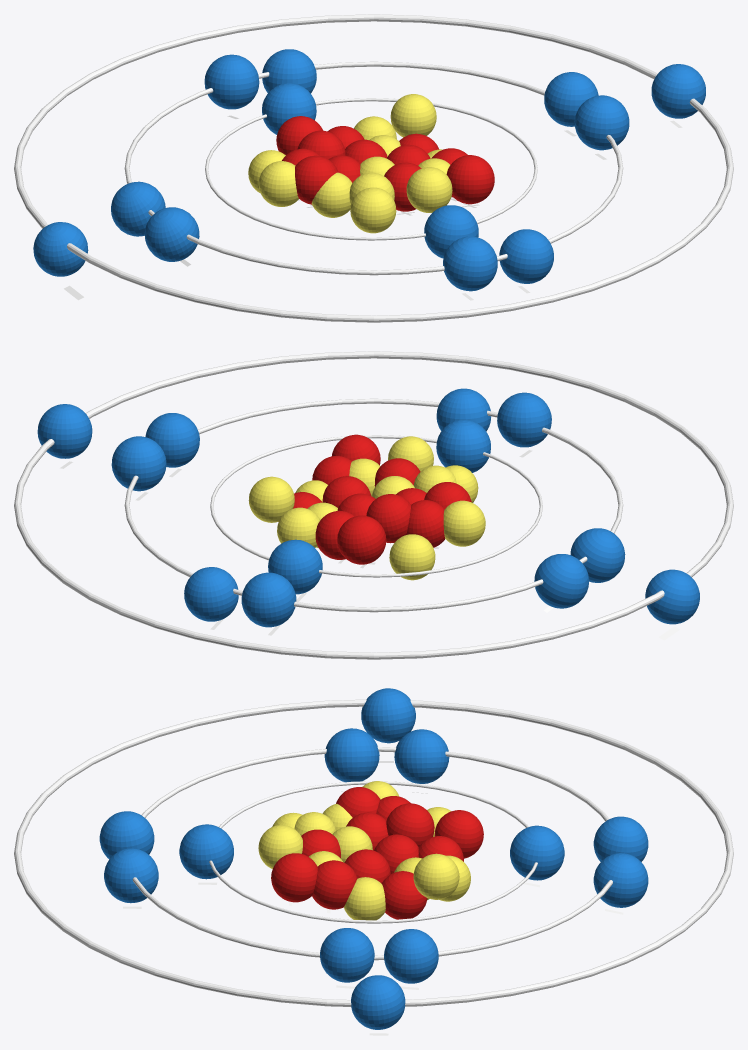
The picture shows the model from 3 angles, top to bottom: view 1: azimuth 30°, elevation 25°; view 2: azimuth 150°, elevation 25°; view 3: azimuth 270°, elevation 25°; orthographic projection.
Parts seen in each view (by area): view 1: Torus.003, Torus.002, Torus.001, -.008, -.004, -.005, -.003, -.002, -.010, -.011, -.006, -.007 (+19 smaller); view 2: Torus.003, Torus.002, Torus.001, -.004, -.009, -.008, -.006, -.007, -.010, -.011, -, -.003 (+22 smaller); view 3: Torus.003, Torus.002, Torus.001, -.002, -.007, -.010, -.006, -.003, -.011, -, -.001, -.009 (+20 smaller).
Part boxes in pixels (x1,y1,x2,y2): Torus.003: (14,14,733,322); Torus.002: (124,61,623,275); Torus.001: (205,98,537,240); -.008: (443,236,497,291); -.004: (204,54,259,109); -.005: (499,229,553,283); -.003: (144,207,199,261); -.002: (574,95,629,150); -.010: (651,64,705,118); -.011: (33,222,88,276); -.006: (111,181,165,236); -.007: (544,72,598,126); Torus.003: (14,351,733,659); Torus.002: (124,398,623,612); Torus.001: (210,435,542,577); -.004: (241,572,296,627); -.009: (184,567,238,621); -.008: (497,392,551,447); -.006: (534,554,588,608); -.007: (111,436,166,491); -.010: (37,404,92,458); -.011: (645,569,699,624); -: (436,419,490,472); -.003: (570,528,625,582); Torus.003: (14,699,733,1006); Torus.002: (132,747,612,960); Torus.001: (209,781,537,923); -.002: (320,928,374,982); -.007: (384,929,438,983); -.010: (351,975,405,1029); -.006: (394,729,449,783); -.003: (324,728,379,782); -.011: (361,688,415,743); -: (179,824,233,879); -.001: (510,825,564,880); -.009: (593,853,648,907).
Bounding box in the file's own units: 6.47 × 0.8116 × 6.11.
